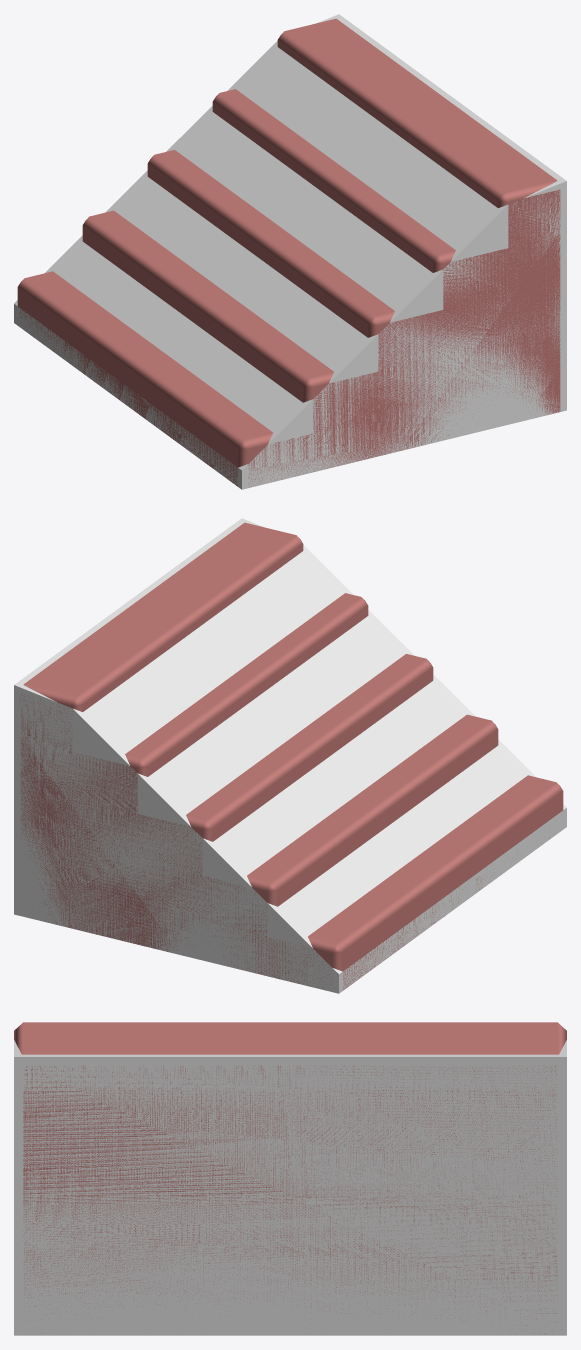
The model's file is Stairs.fbx.
3 views of the same model, one above another, from view 1: azimuth 30°, elevation 25°; view 2: azimuth 150°, elevation 25°; view 3: azimuth 270°, elevation 25° (orthographic). The views are drawn at different scales.
Visible parts, largest first — view 1: Cube.013, Cube.014; view 2: Cube.014, Cube.013; view 3: Cube.014, Cube.013.
Part boxes in pixels (x1,y1,x2,y2): Cube.013: [17, 18, 560, 486]; Cube.014: [14, 14, 566, 489]; Cube.014: [14, 518, 566, 993]; Cube.013: [20, 522, 563, 989]; Cube.014: [14, 1040, 566, 1335]; Cube.013: [14, 1022, 566, 1334].
Bounding box in the file's own units: 247 × 167 × 300.
